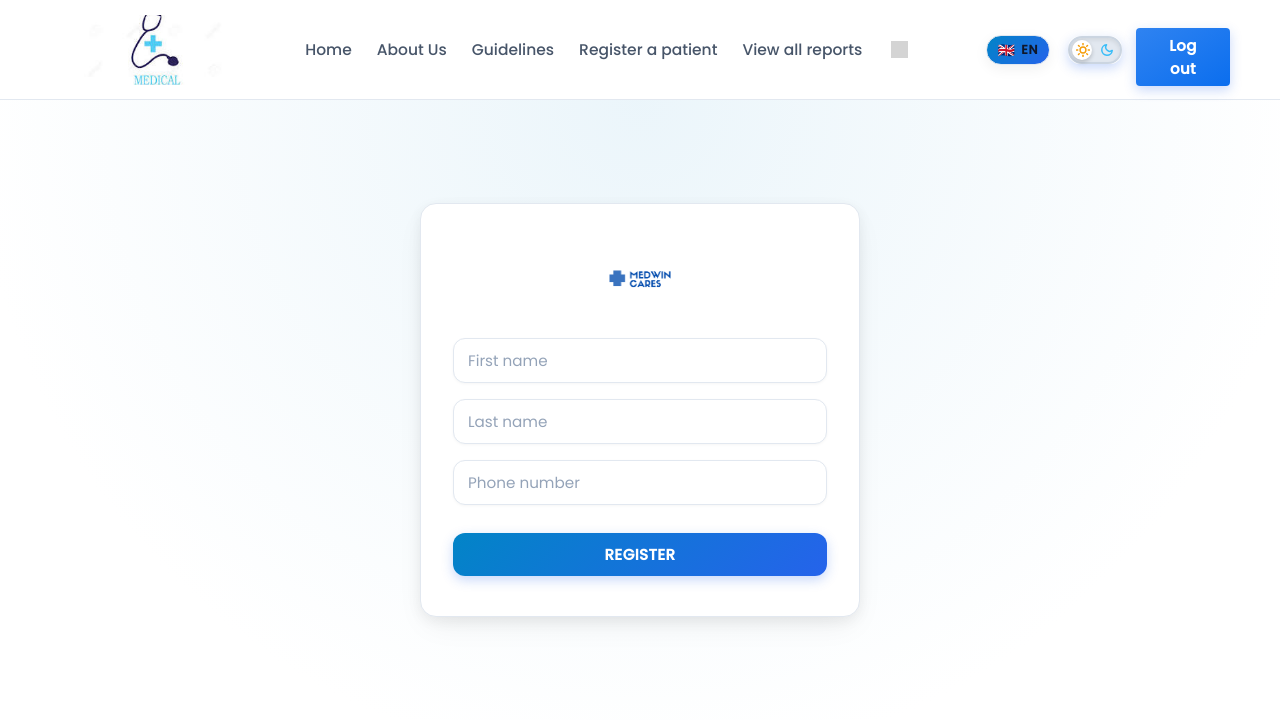
Test: Doctor - Patient Registration Flow › handles registration errors gracefully by showing an error alert
Type "Jane" into the field with placeholder "First name" at point(640, 361), box 453,338 -> 827,383
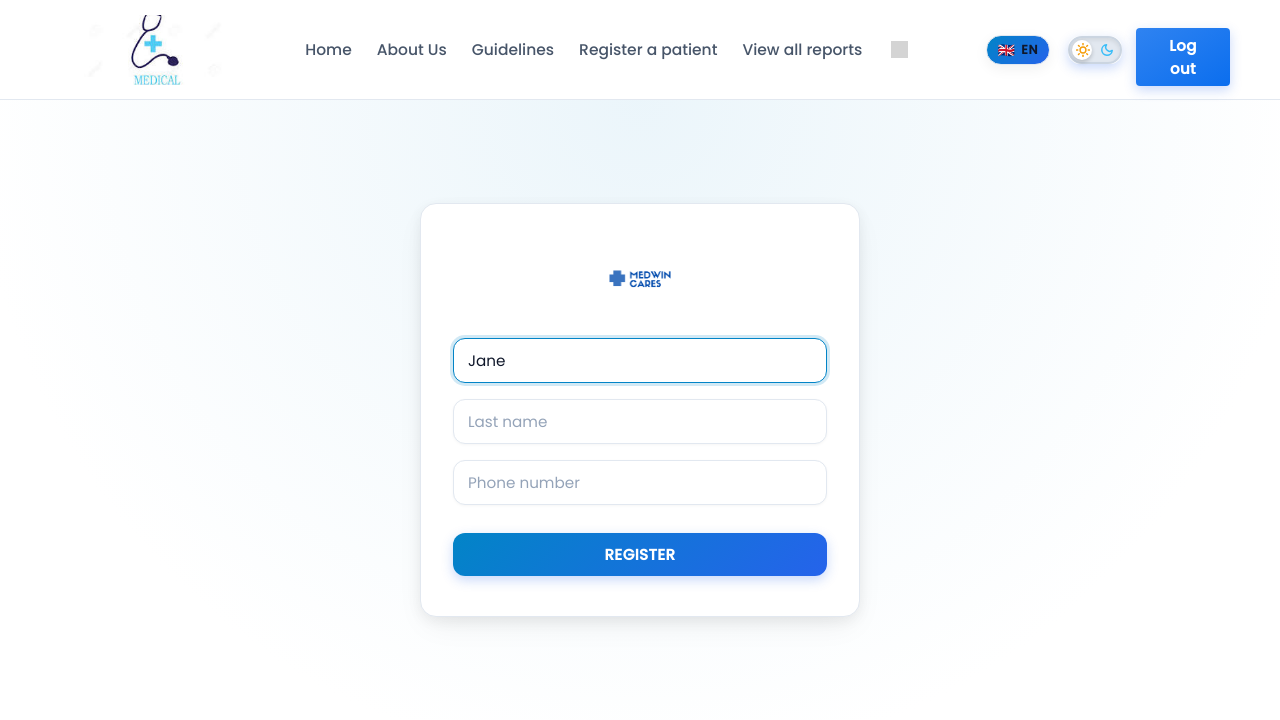
Type "Smith" into the field with placeholder "Last name" at point(640, 422), box 453,399 -> 827,444
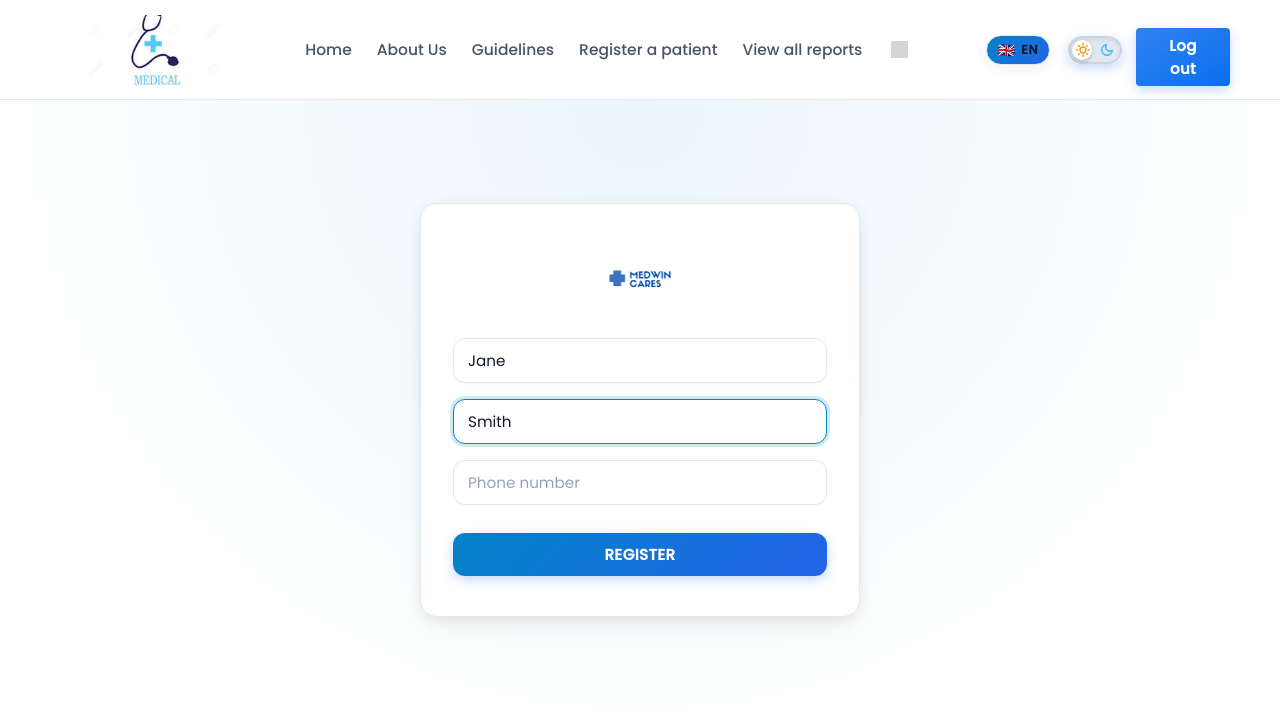
Type "0699999999" into the field with placeholder "Phone number" at point(640, 483), box 453,460 -> 827,505
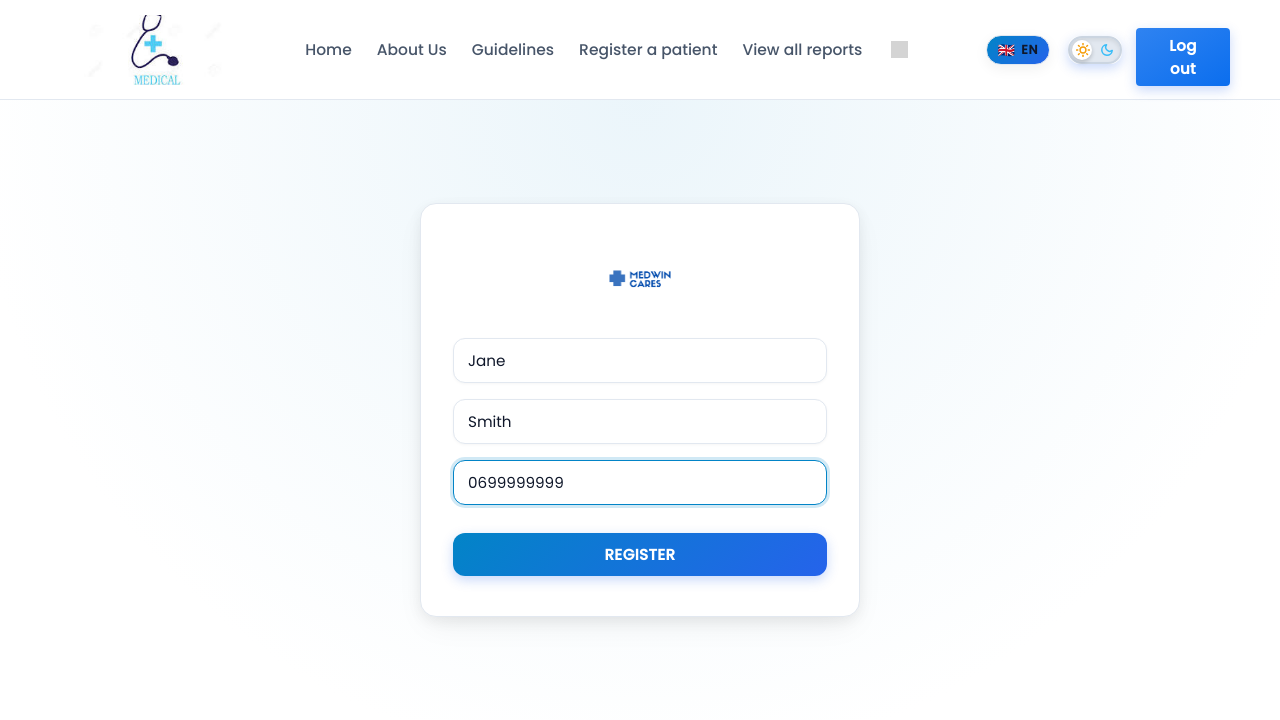
Click the submit button at point(640, 555), box 453,533 -> 827,576
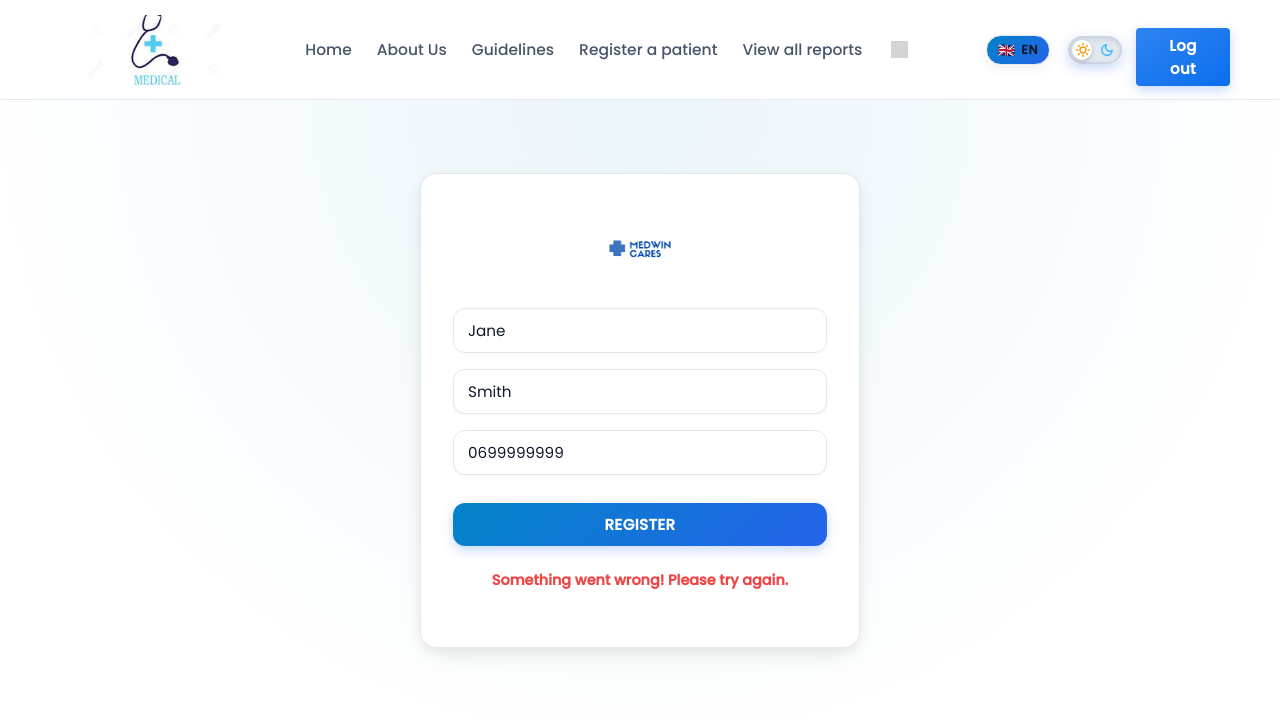
Check: the text "Something went wrong! Please try again." is shown, box 492,570 -> 788,590
Check: the text with class "errorMsg" reads "Something went wrong! Please try again.", box 492,570 -> 788,591
